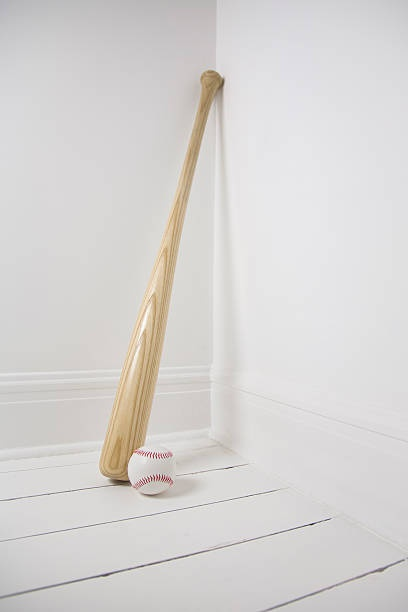bita: (91, 65, 227, 488)
